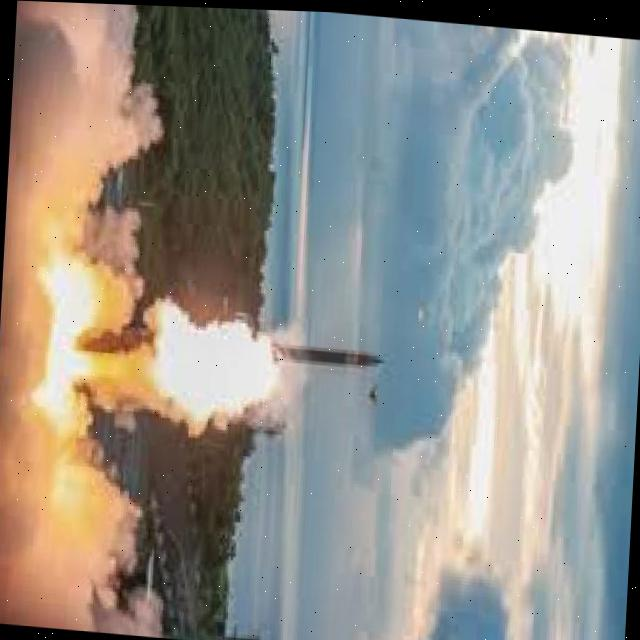missile: (252, 321, 388, 390)
